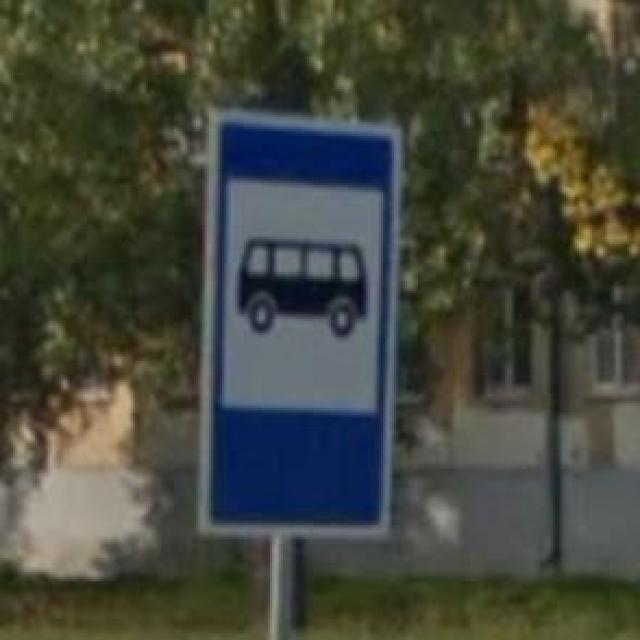bus_stop: (198, 108, 403, 537)
